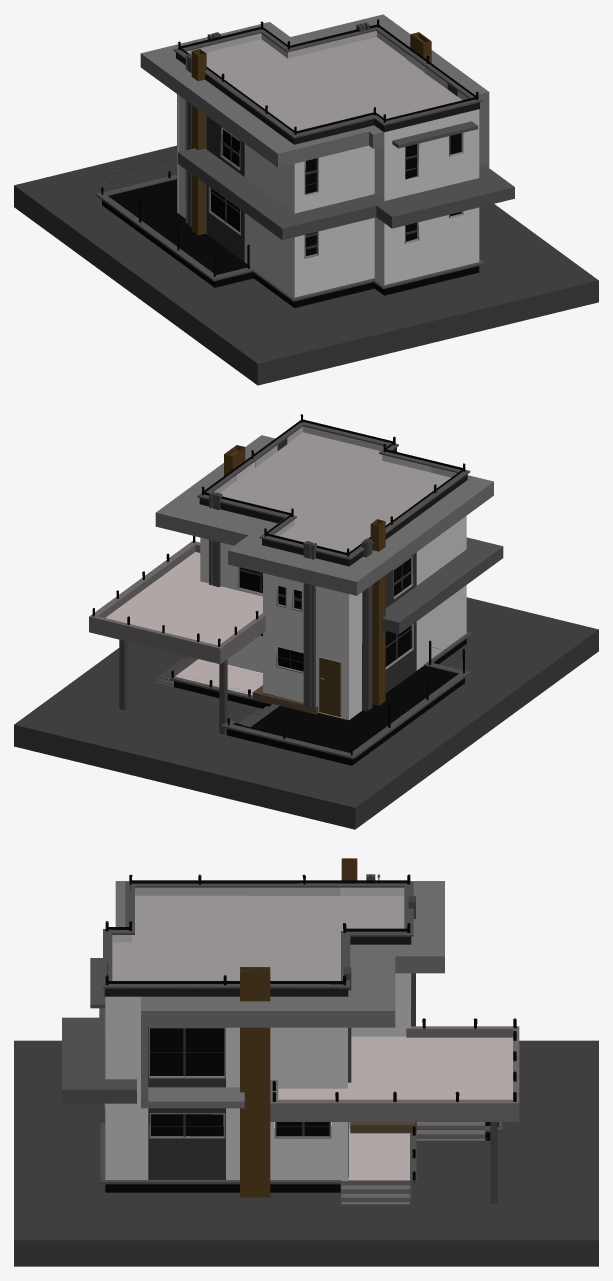
3 views of the same model, one above another, from view 1: azimuth 30°, elevation 25°; view 2: azimuth 150°, elevation 25°; view 3: azimuth 270°, elevation 25° (orthographic). The views are drawn at different scales.
Bounding box in the file's own units: 19.08 × 11.29 × 23.62.
